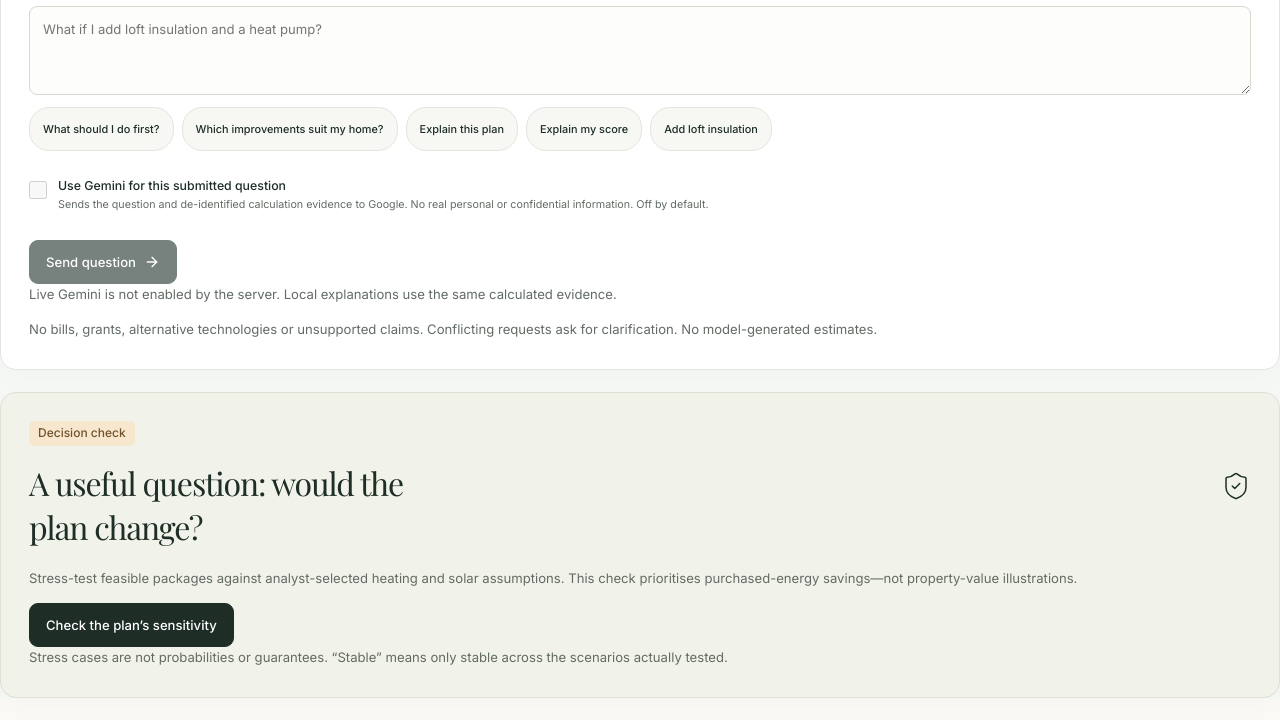
Scenario: bounded questions and decision check › handles unavailable decision arrays as null without offering Apply
This screenshot has width=1280, height=720.
(page scrolled)
Click the button "Check the plan’s sensitivity": (131, 625) [29,603,234,647]
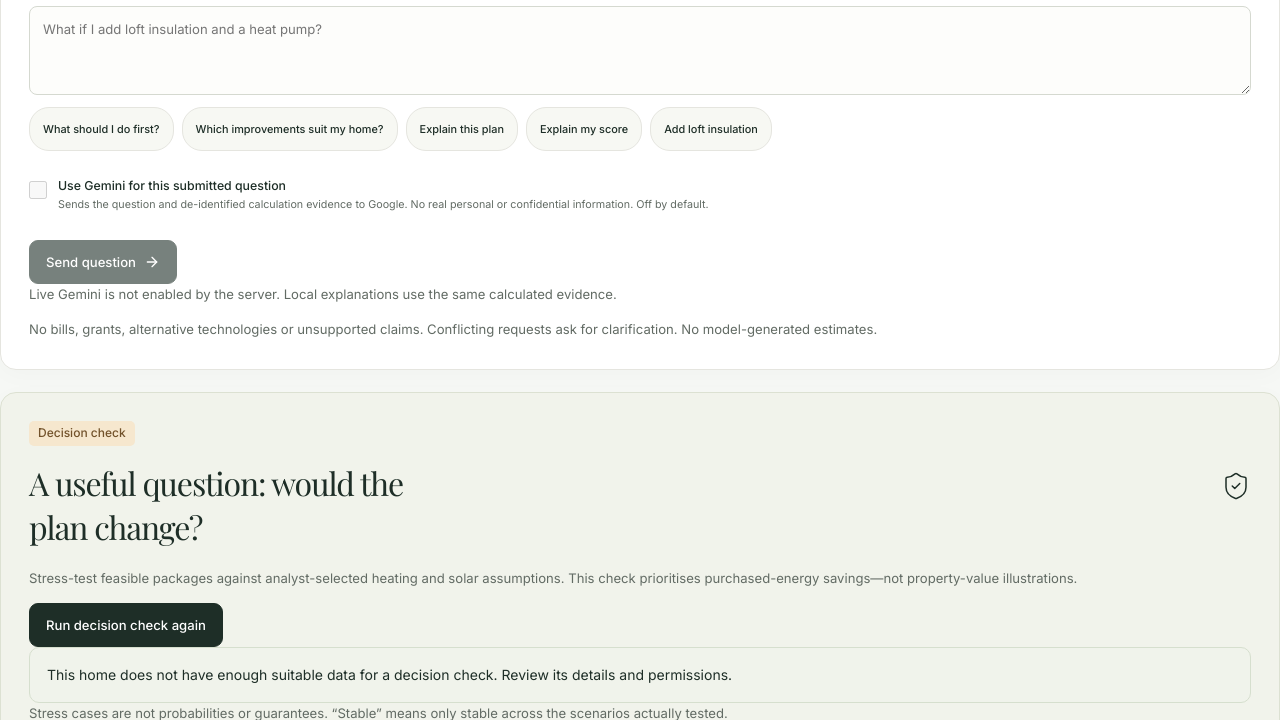
Expected: the text "does not have enough suitable data" is shown, [47,666,732,683]
